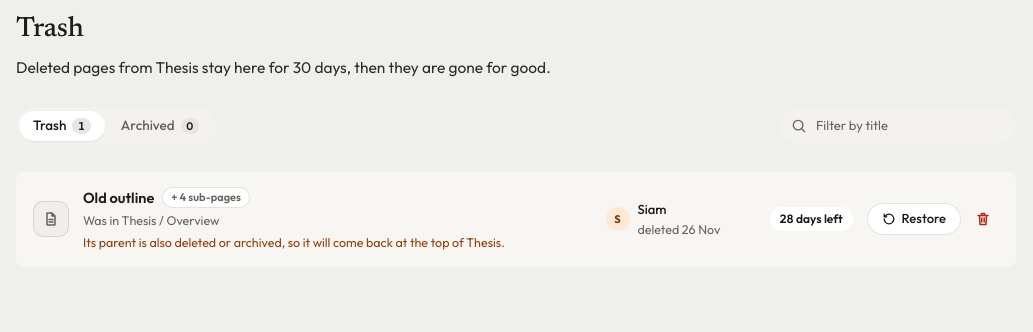
Test: trash page › restoreToTopShowsNotice
Expected: the list item "Old outline" shows "come back at the top of Thesis", x1=16 y1=172 x2=1016 y2=267
Click the button "Restore" at [914, 219], box x1=867 y1=203 x2=961 y2=235
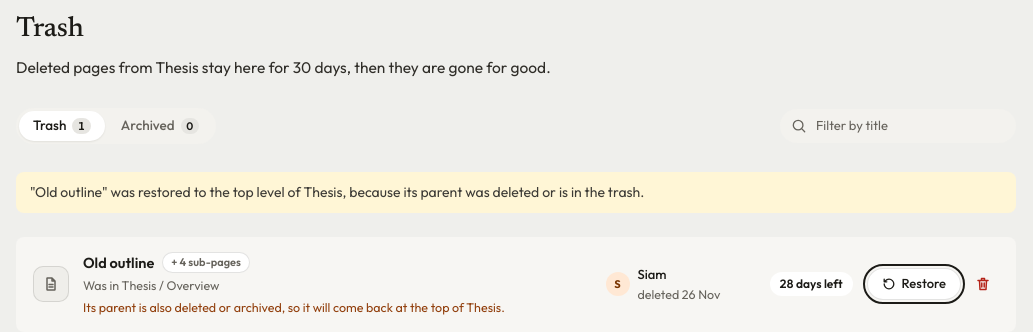
Expected: the message shows "\"Old outline\" was restored to the top level of Thesis, because its parent was deleted or is in the trash.", x1=30 y1=183 x2=644 y2=201
